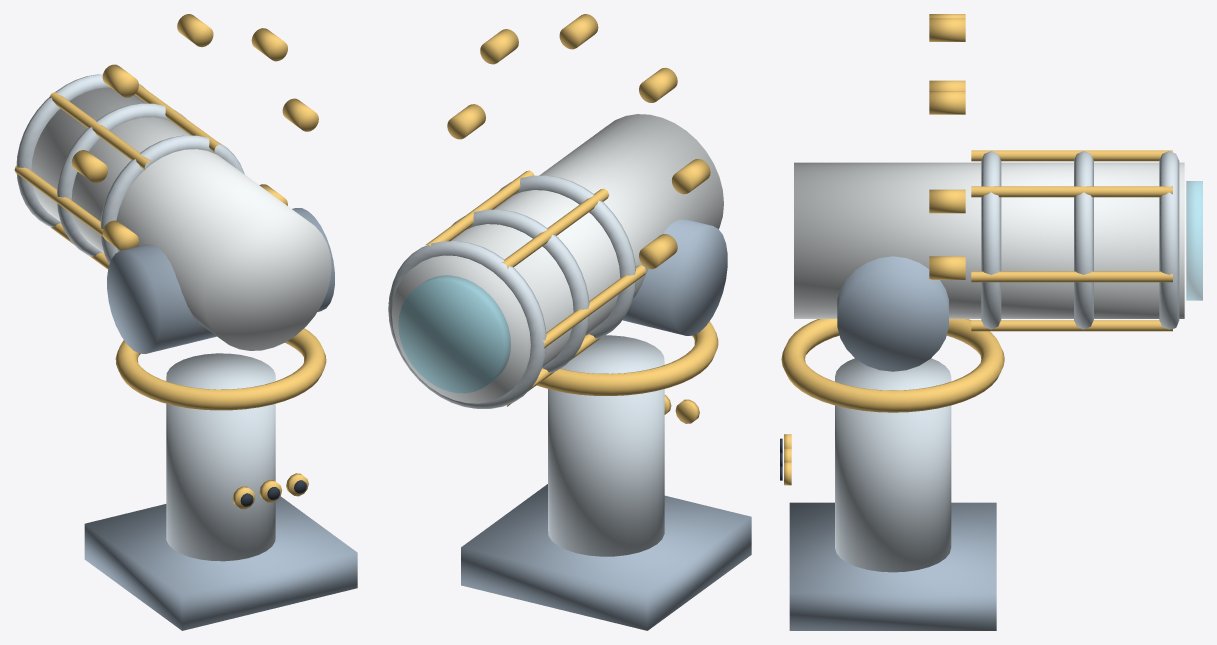
Rendered from 17_L89_SolarVectorTrackingGimbal.glb.
The picture shows the model from 3 angles, left to right: view 1: azimuth 30°, elevation 25°; view 2: azimuth 150°, elevation 25°; view 3: azimuth 270°, elevation 25°; orthographic projection. The views are drawn at different scales.
Parts seen in each view (by area): view 1: L87_SolarVectorTrackingGimbal_Part_0004, L87_SolarVectorTrackingGimbal_Part_0000, L87_SolarVectorTrackingGimbal_Part_0001, L87_SolarVectorTrackingGimbal_Part_0005, L87_SolarVectorTrackingGimbal_Part_0003, L87_SolarVectorTrackingGimbal_Part_0002, L87_SolarVectorTrackingGimbal_Part_0008, L87_SolarVectorTrackingGimbal_Part_0007; view 2: L87_SolarVectorTrackingGimbal_Part_0004, L87_SolarVectorTrackingGimbal_Part_0000, L87_SolarVectorTrackingGimbal_Part_0001, L87_SolarVectorTrackingGimbal_Part_0005, L87_SolarVectorTrackingGimbal_Part_0006, L87_SolarVectorTrackingGimbal_Part_0003, L87_SolarVectorTrackingGimbal_Part_0008, L87_SolarVectorTrackingGimbal_Part_0007, L87_SolarVectorTrackingGimbal_Part_0002; view 3: L87_SolarVectorTrackingGimbal_Part_0004, L87_SolarVectorTrackingGimbal_Part_0001, L87_SolarVectorTrackingGimbal_Part_0000, L87_SolarVectorTrackingGimbal_Part_0003, L87_SolarVectorTrackingGimbal_Part_0005, L87_SolarVectorTrackingGimbal_Part_0007, L87_SolarVectorTrackingGimbal_Part_0002, L87_SolarVectorTrackingGimbal_Part_0008, L87_SolarVectorTrackingGimbal_Part_0006.
Part boxes in pixels (<box>): L87_SolarVectorTrackingGimbal_Part_0004: <box>31,87,331,350</box>; L87_SolarVectorTrackingGimbal_Part_0000: <box>84,496,357,630</box>; L87_SolarVectorTrackingGimbal_Part_0001: <box>166,353,275,561</box>; L87_SolarVectorTrackingGimbal_Part_0005: <box>16,74,244,264</box>; L87_SolarVectorTrackingGimbal_Part_0003: <box>107,208,334,353</box>; L87_SolarVectorTrackingGimbal_Part_0002: <box>115,328,326,410</box>; L87_SolarVectorTrackingGimbal_Part_0008: <box>71,14,318,250</box>; L87_SolarVectorTrackingGimbal_Part_0007: <box>14,84,221,269</box>; L87_SolarVectorTrackingGimbal_Part_0004: <box>391,114,723,403</box>; L87_SolarVectorTrackingGimbal_Part_0000: <box>461,484,751,630</box>; L87_SolarVectorTrackingGimbal_Part_0001: <box>548,335,664,556</box>; L87_SolarVectorTrackingGimbal_Part_0005: <box>388,175,635,408</box>; L87_SolarVectorTrackingGimbal_Part_0006: <box>398,275,510,393</box>; L87_SolarVectorTrackingGimbal_Part_0003: <box>622,219,727,335</box>; L87_SolarVectorTrackingGimbal_Part_0008: <box>447,14,710,269</box>; L87_SolarVectorTrackingGimbal_Part_0007: <box>388,170,646,406</box>; L87_SolarVectorTrackingGimbal_Part_0002: <box>537,321,718,395</box>; L87_SolarVectorTrackingGimbal_Part_0004: <box>794,162,1184,318</box>; L87_SolarVectorTrackingGimbal_Part_0001: <box>835,358,951,572</box>; L87_SolarVectorTrackingGimbal_Part_0000: <box>789,502,996,630</box>; L87_SolarVectorTrackingGimbal_Part_0003: <box>837,256,948,371</box>; L87_SolarVectorTrackingGimbal_Part_0005: <box>981,151,1179,329</box>; L87_SolarVectorTrackingGimbal_Part_0007: <box>971,150,1172,331</box>; L87_SolarVectorTrackingGimbal_Part_0002: <box>781,319,1004,412</box>; L87_SolarVectorTrackingGimbal_Part_0008: <box>929,14,965,279</box>; L87_SolarVectorTrackingGimbal_Part_0006: <box>1186,181,1202,300</box>.
Bounding box in the file's own units: 1.55 × 3.44 × 2.33.
